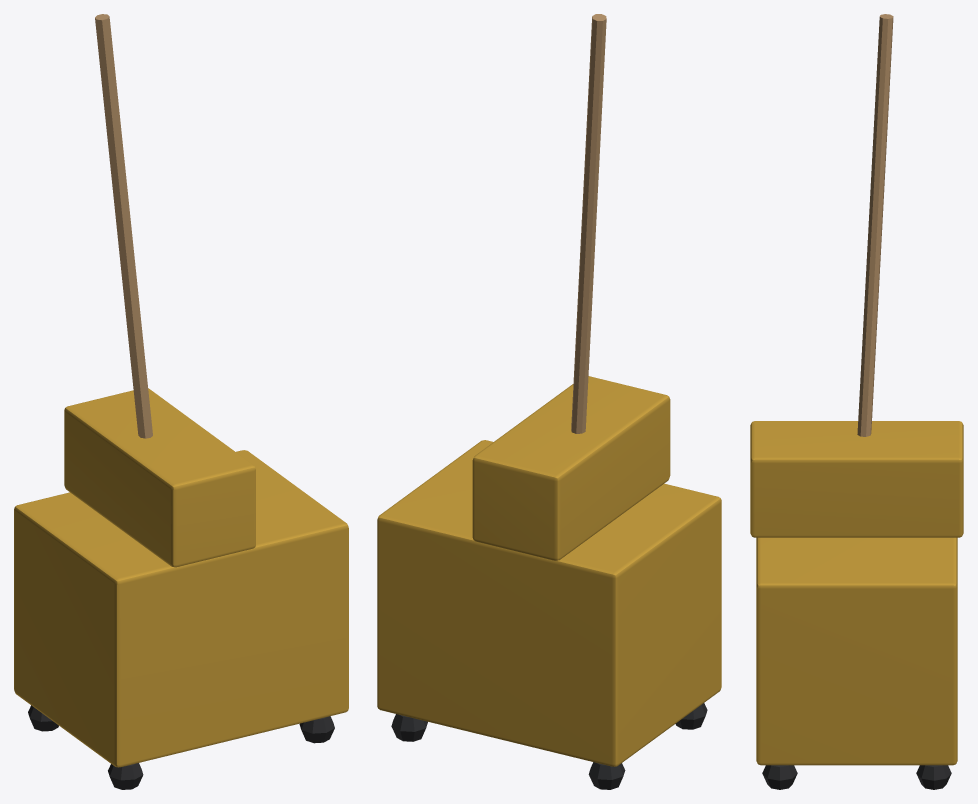
Rendered from prop_mop_bucket.glb.
The picture shows the model from 3 angles, left to right: view 1: azimuth 30°, elevation 25°; view 2: azimuth 150°, elevation 25°; view 3: azimuth 270°, elevation 25°; orthographic projection. The views are drawn at different scales.
Visible parts, largest first — view 1: Bucket; view 2: Bucket; view 3: Bucket.
Part boxes in pixels (bbox=[...]): Bucket: bbox=[14, 14, 348, 789]; Bucket: bbox=[377, 14, 721, 789]; Bucket: bbox=[750, 14, 963, 789].
Size of what is drawn, in the model's own units: 0.44 by 1.3 by 0.36.
